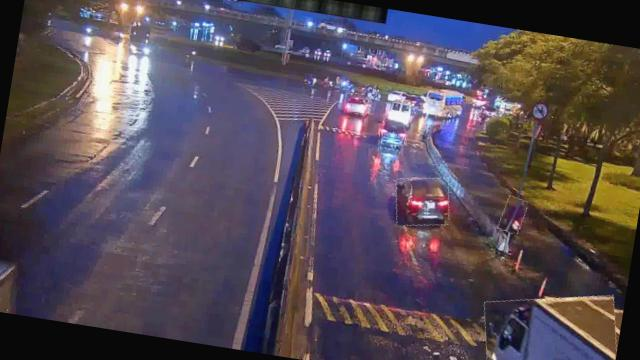Bike: (499, 195, 527, 234)
Car: (391, 172, 453, 230), (344, 92, 369, 116)
Truck: (474, 281, 623, 360)
